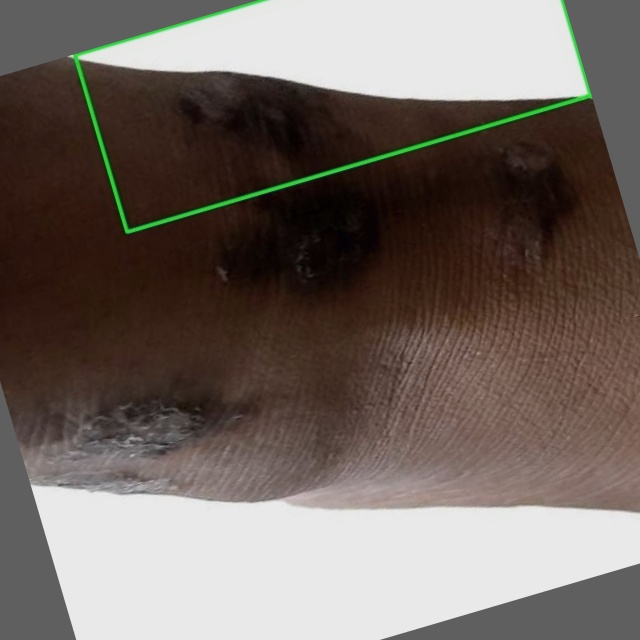Contact Dermatitis: (75, 0, 591, 231)
